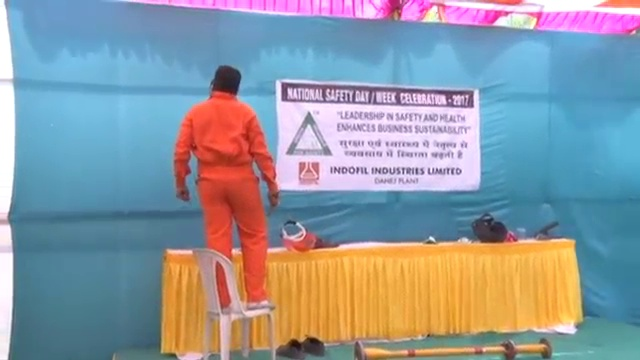helmet_off: (209, 63, 242, 97)
person: (173, 64, 278, 313)
